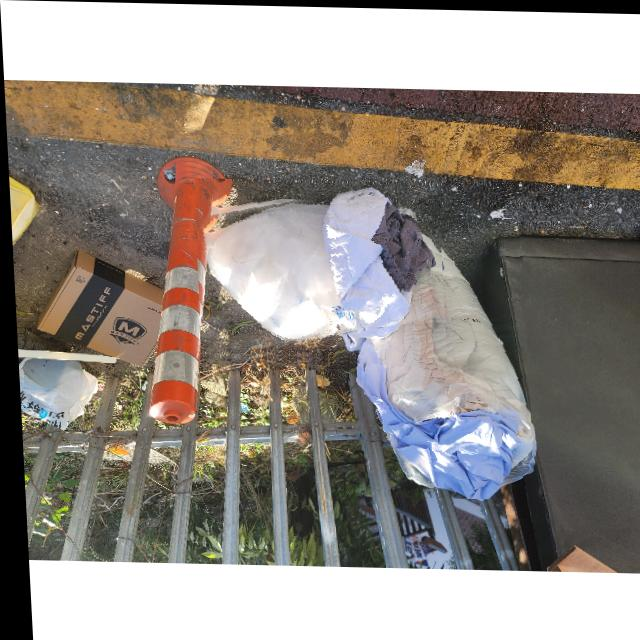other_trashbag: (356, 215, 529, 497), (194, 182, 440, 354)
